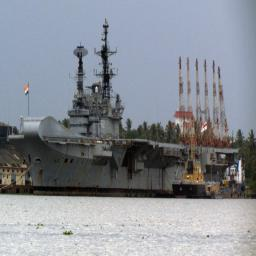Portanaves: (7, 18, 243, 197)
